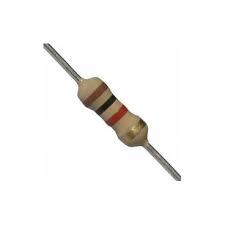resistor: (69, 64, 163, 164)
